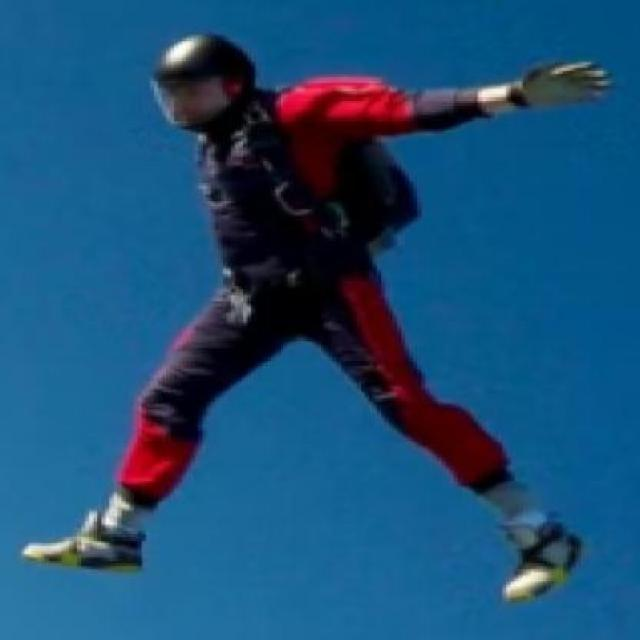fall: (14, 34, 611, 603)
